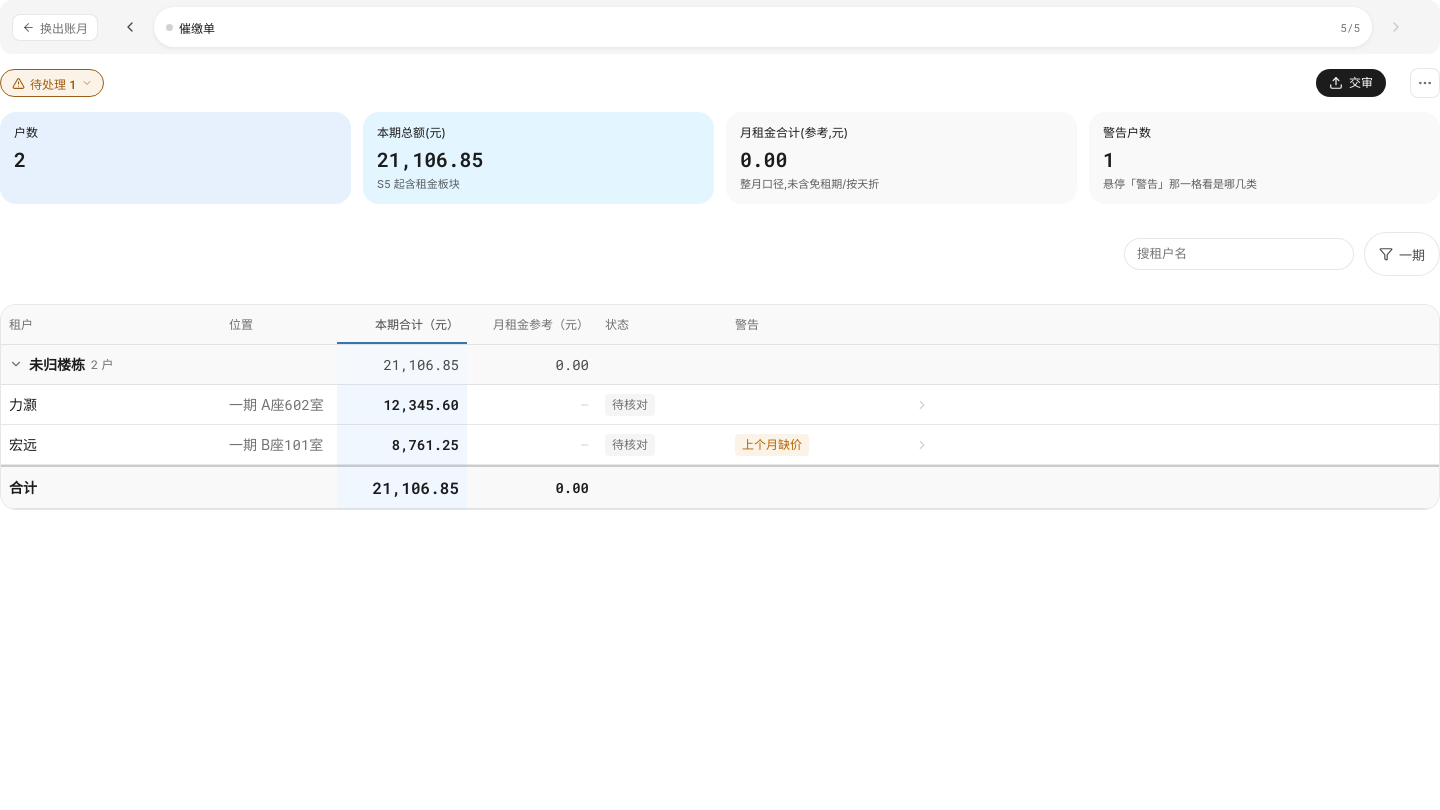
§5.10 筛选行 —— >2 件控件就收:搜索留外面,选择器进面板 › S 档:面板里那份是活的 —— 换期真的换表,不是摆设
The image size is (1440, 810).
Click the button with class "bn-fbtn". click: click(1402, 254)
box: [1364, 232, 1439, 276]
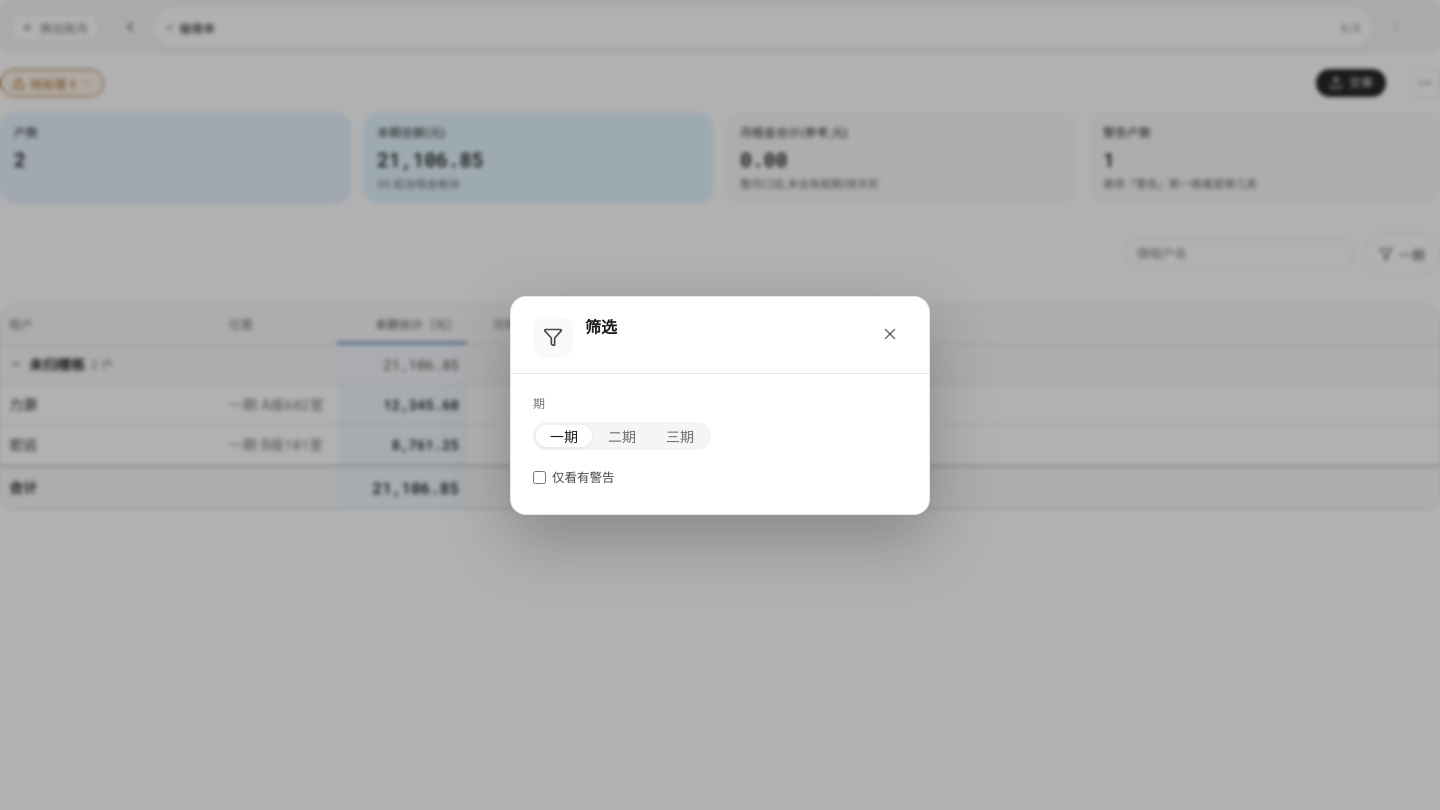
Click the tab with class "ds-seg-item" showing "二期". click: click(622, 436)
box: [594, 424, 650, 446]
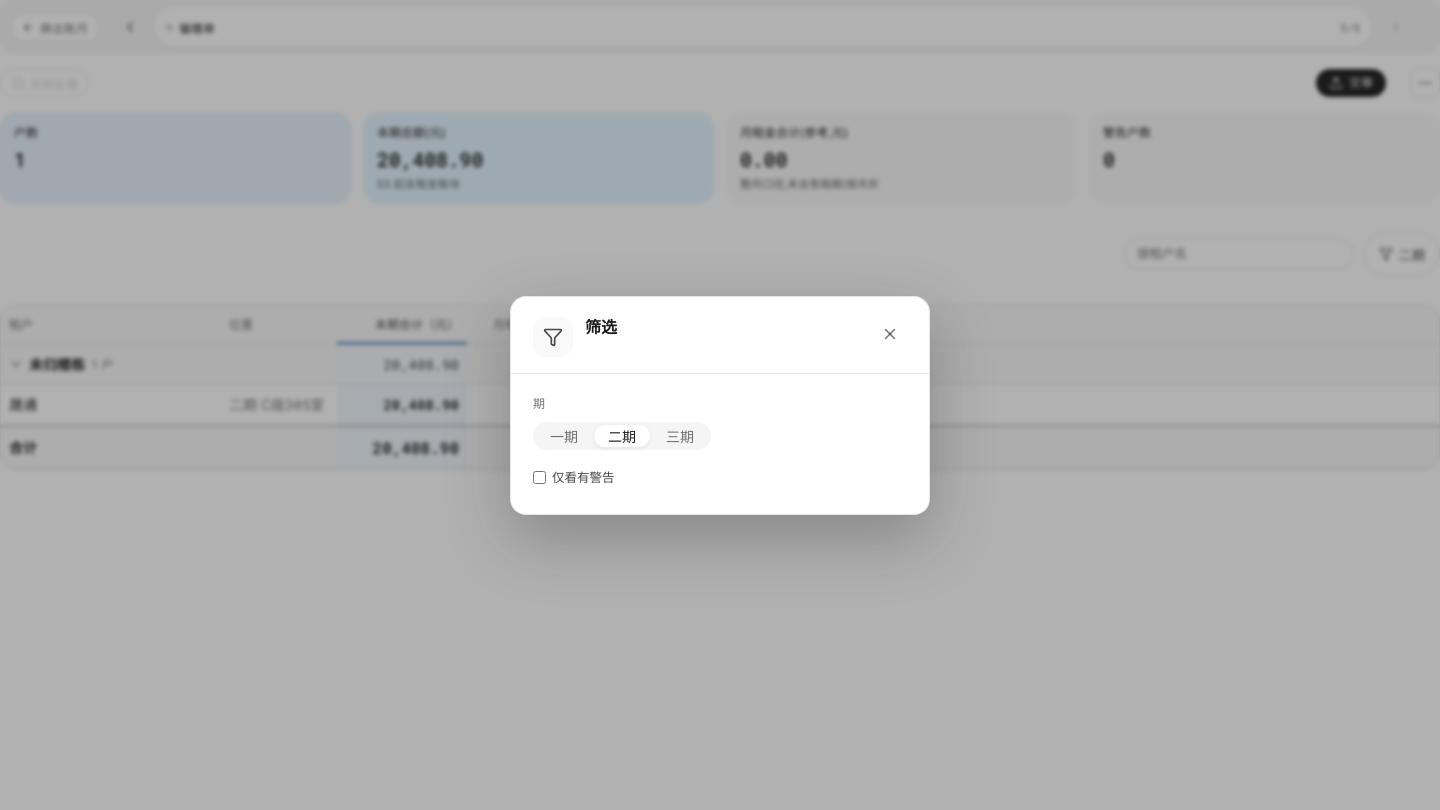
Expected: the button with class "bn-fbtn" reads "二期", [1364, 232, 1439, 276]
Expected: the text with class "bn-tname" reads "晟通", [9, 396, 37, 412]
